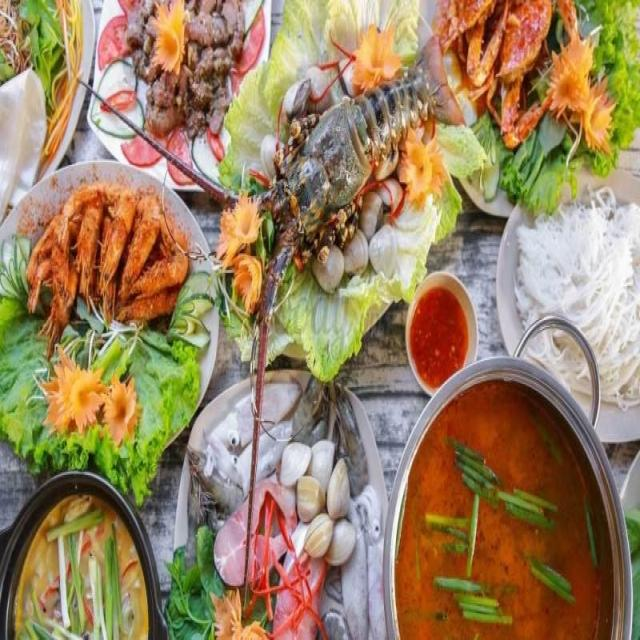bun: (508, 212, 640, 392)
ca song: (219, 498, 297, 588), (272, 555, 322, 640)
ghe xao me: (451, 0, 585, 128), (114, 146, 188, 166)
muc song: (208, 400, 282, 468), (354, 493, 380, 640)
ngheu song: (317, 188, 401, 303), (280, 47, 363, 105), (302, 467, 343, 522), (254, 133, 293, 176), (283, 443, 330, 476), (310, 520, 351, 554)
nuoc lau thai: (377, 375, 640, 640)
tom hum song: (242, 21, 446, 323)
tom rang muoi: (22, 187, 190, 322)
tom song: (340, 385, 368, 466), (300, 373, 333, 437), (185, 458, 230, 503), (188, 479, 208, 557)
